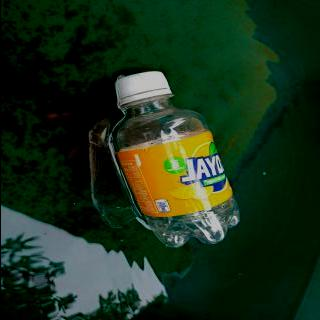bottle: (102, 68, 242, 248)
